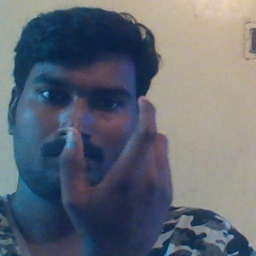U: (58, 91, 177, 248)
